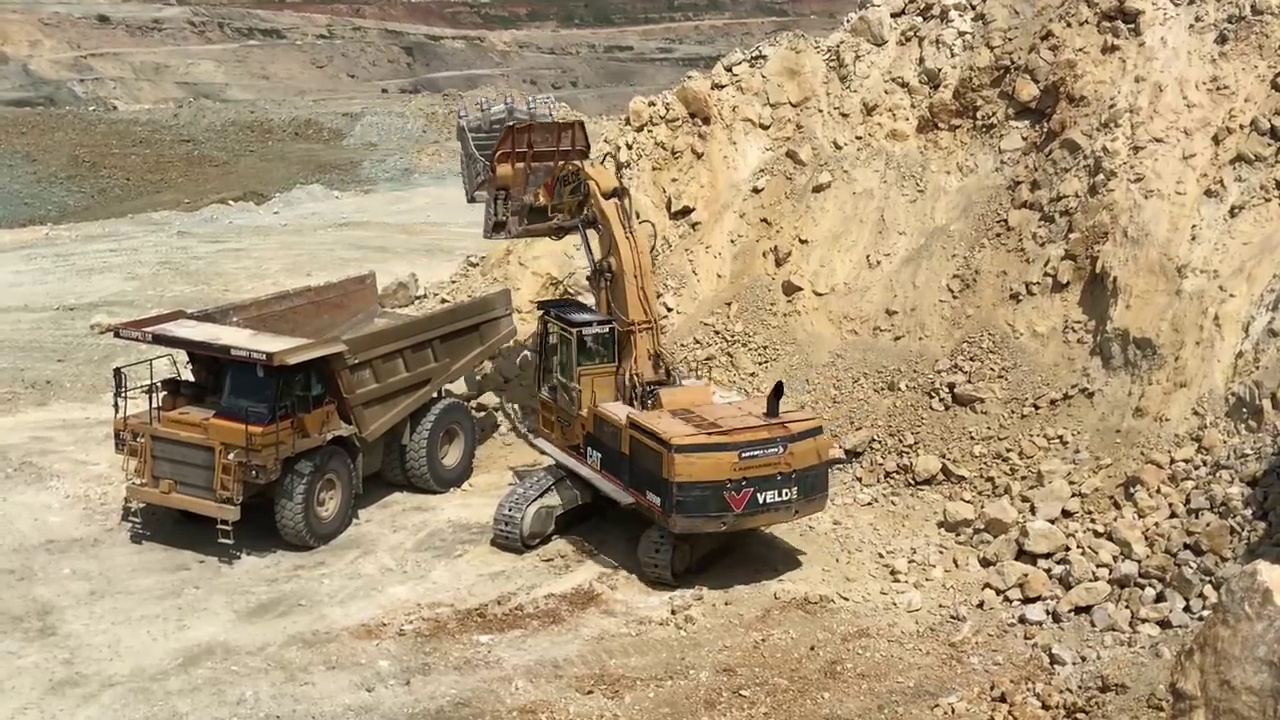truck: (110, 269, 518, 547)
wheel loader: (454, 92, 833, 586)
